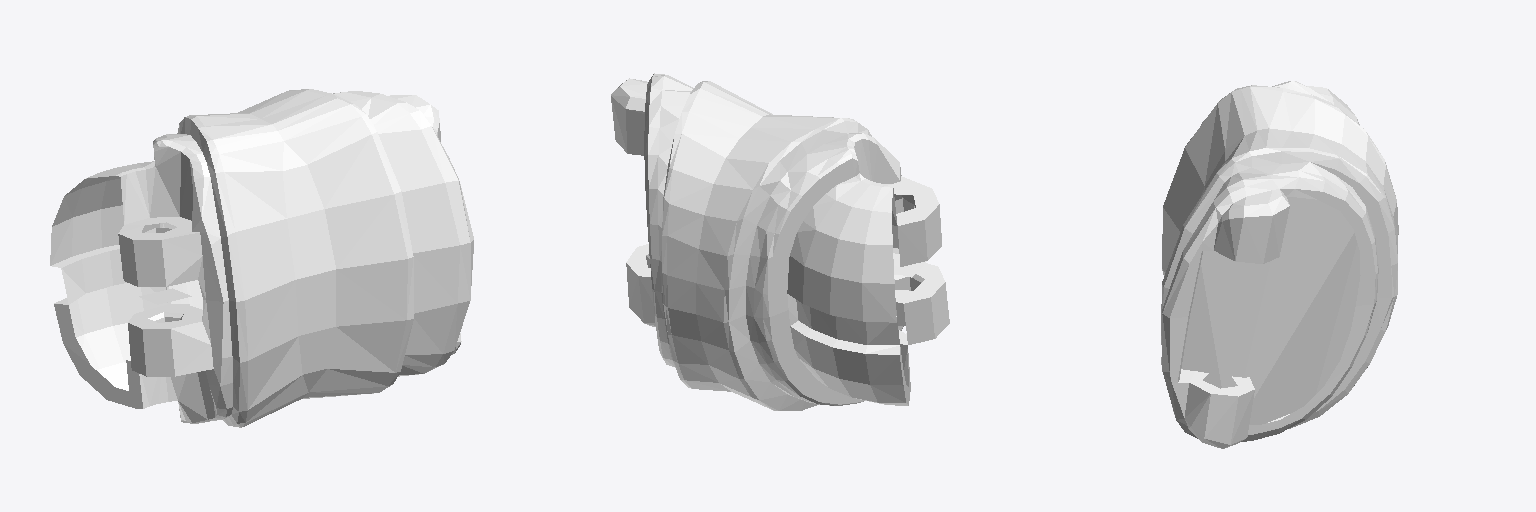
3 views of the same model, side by side, from view 1: azimuth 30°, elevation 25°; view 2: azimuth 150°, elevation 25°; view 3: azimuth 270°, elevation 25° (orthographic).
Parts seen in each view (by area): view 1: RFinger12_RPhalax_2; view 2: RFinger12_RPhalax_2; view 3: RFinger12_RPhalax_2.
Part boxes in pixels (x1,y1,x2,y2): RFinger12_RPhalax_2: (50, 89, 473, 427); RFinger12_RPhalax_2: (611, 73, 949, 410); RFinger12_RPhalax_2: (1161, 81, 1398, 448).
Size of the model in its own units: 0.1938 by 0.16 by 0.1192.
1 materials, 1 textured.